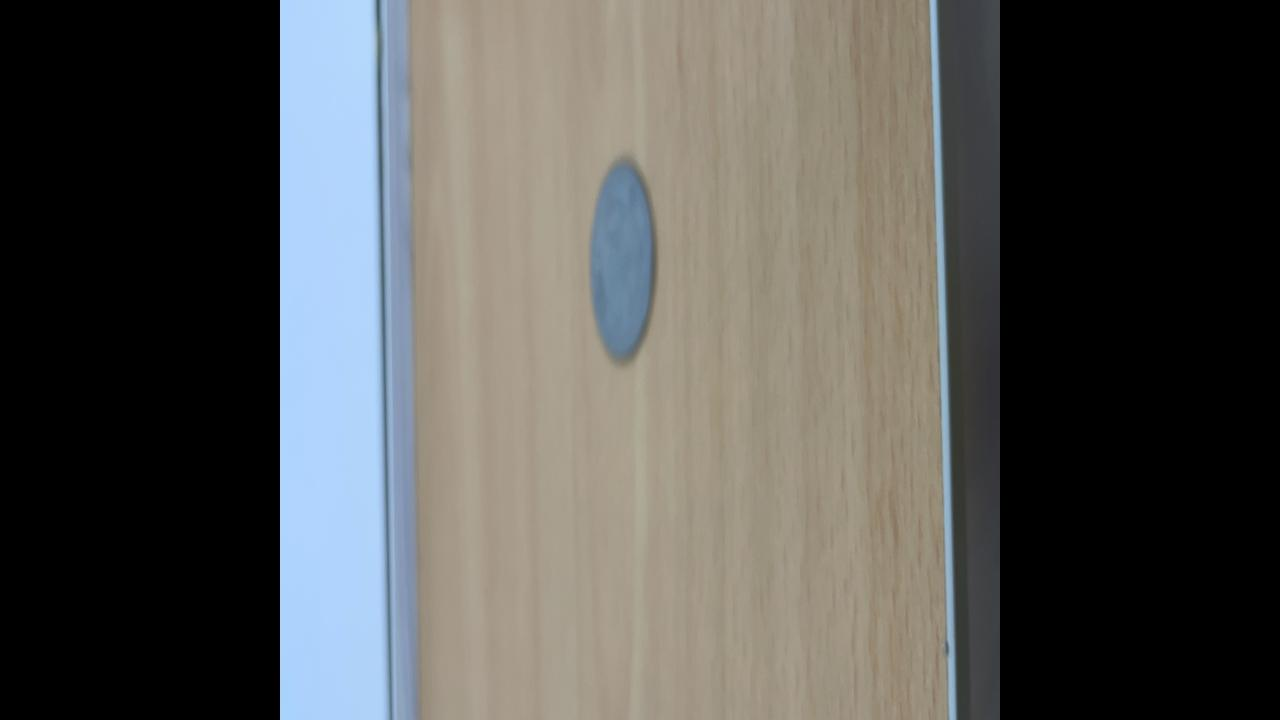coin: (586, 150, 658, 370)
